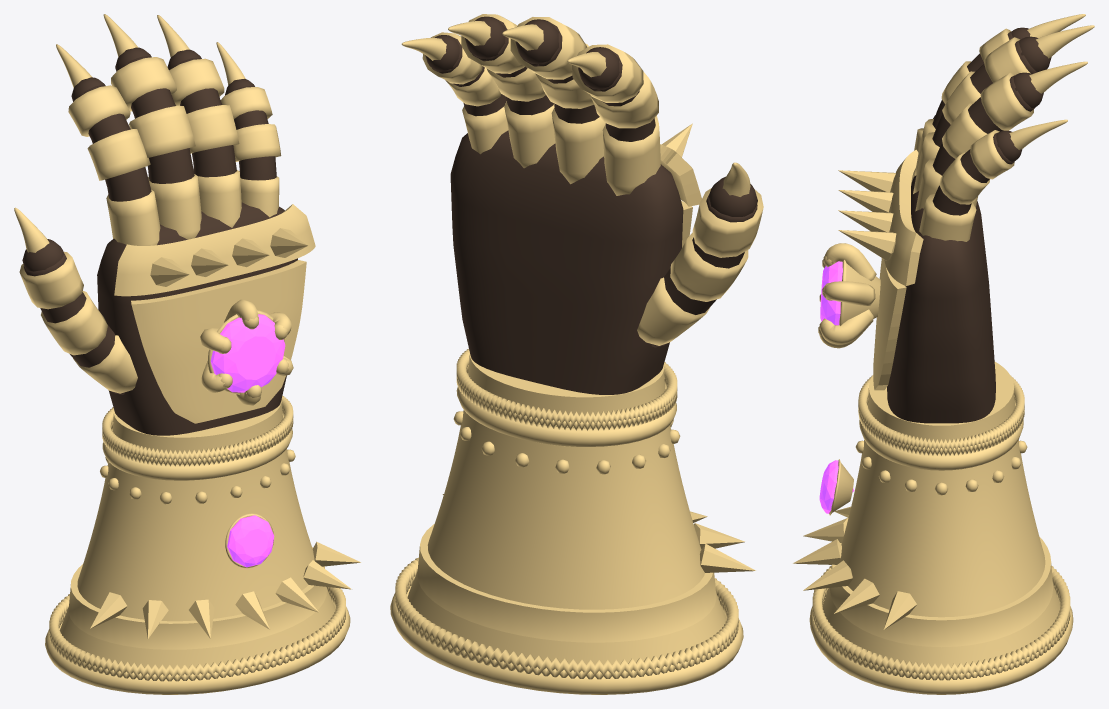
File: gloves_power_epic.glb
3 renders of one model, left to right at view 1: azimuth 30°, elevation 25°; view 2: azimuth 150°, elevation 25°; view 3: azimuth 270°, elevation 25°, orthographic. The views are drawn at different scales.
Visible parts, largest first — view 1: gloves_power_epic; view 2: gloves_power_epic; view 3: gloves_power_epic.
Part boxes in pixels (box(x1,y1,x2,y2)): gloves_power_epic: box(14, 14, 360, 694); gloves_power_epic: box(390, 14, 763, 694); gloves_power_epic: box(793, 14, 1094, 694).
Size of the model in its own units: 1.61 by 2.89 by 1.33.
